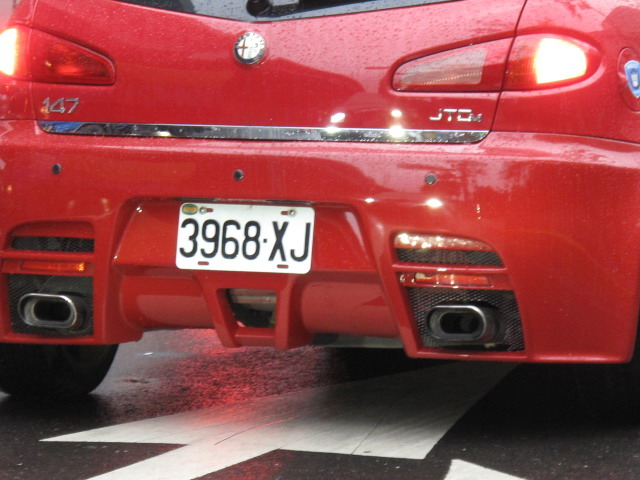plate: (173, 200, 316, 275)
